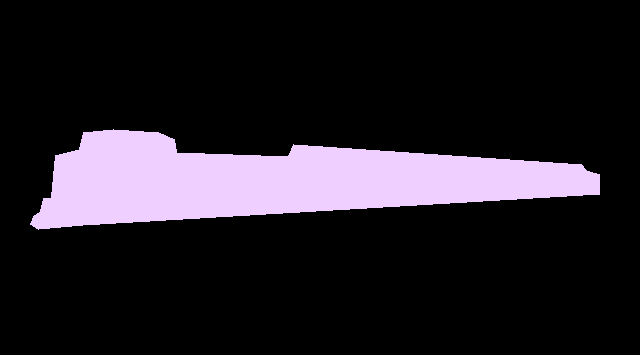Train: (30, 129, 599, 229)
